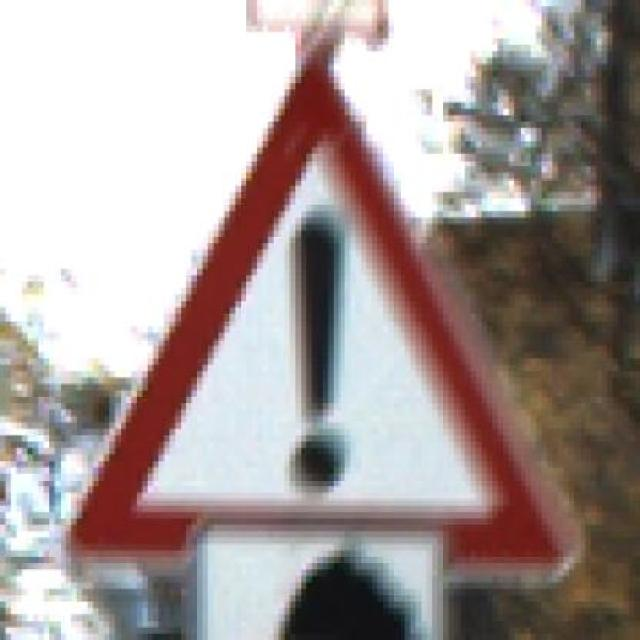Attention Please-: (43, 41, 595, 618)
